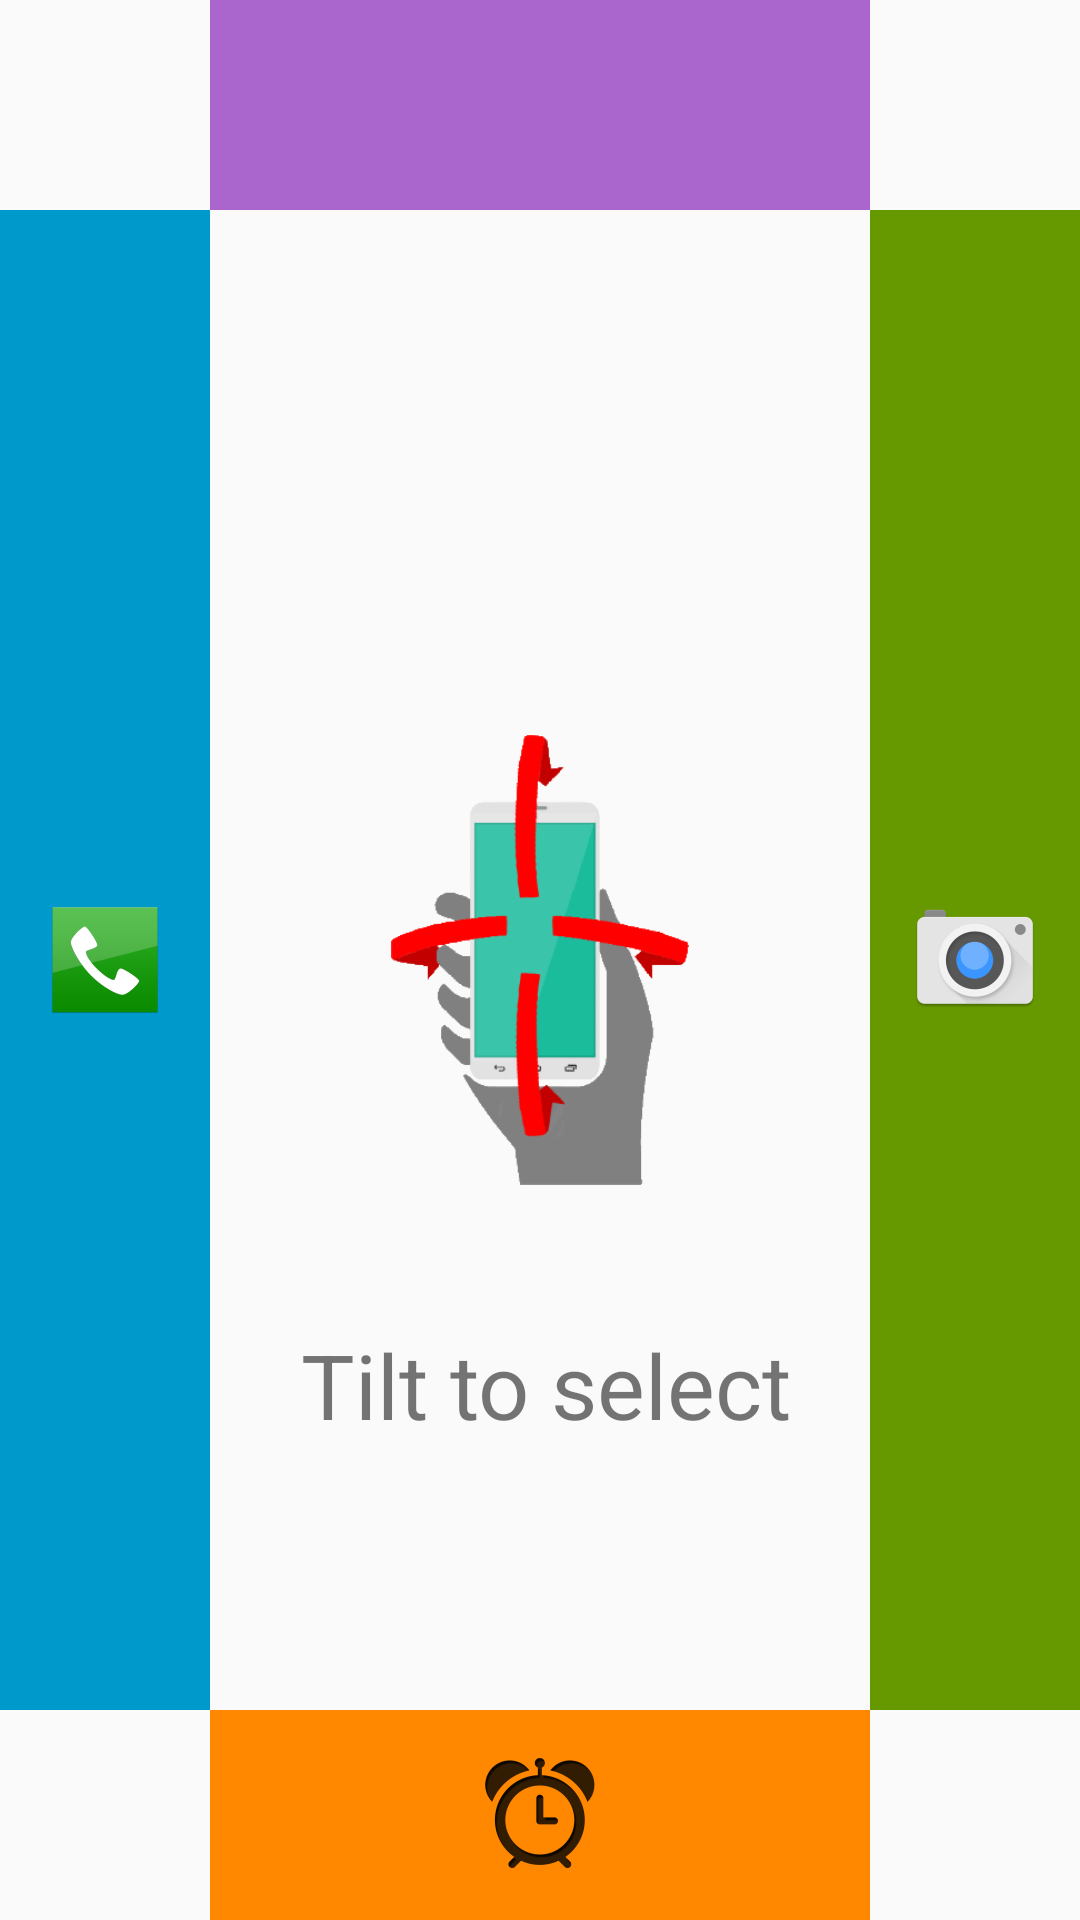

Icons on this 1080*1920 Android screen, each with the point to tap as point (x, y):
alarm: point (540, 1813)
call: point (105, 960)
camera: point (975, 957)
